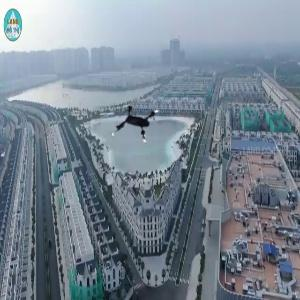drone: (107, 96, 171, 160)
